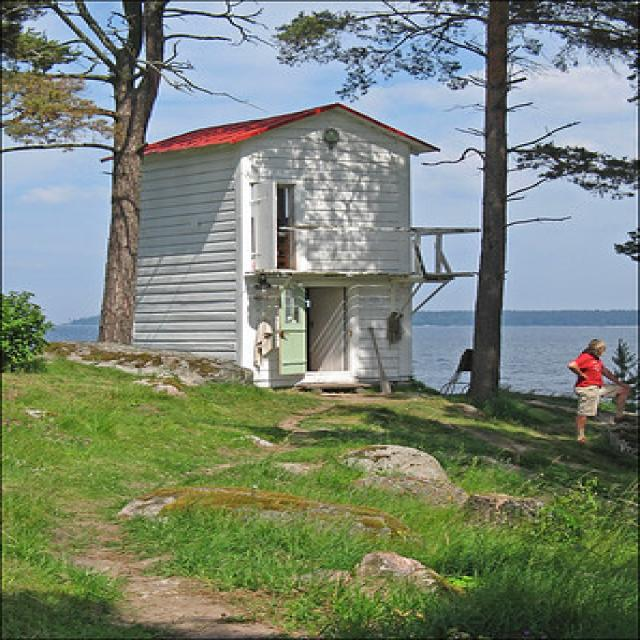building: (131, 98, 436, 388)
